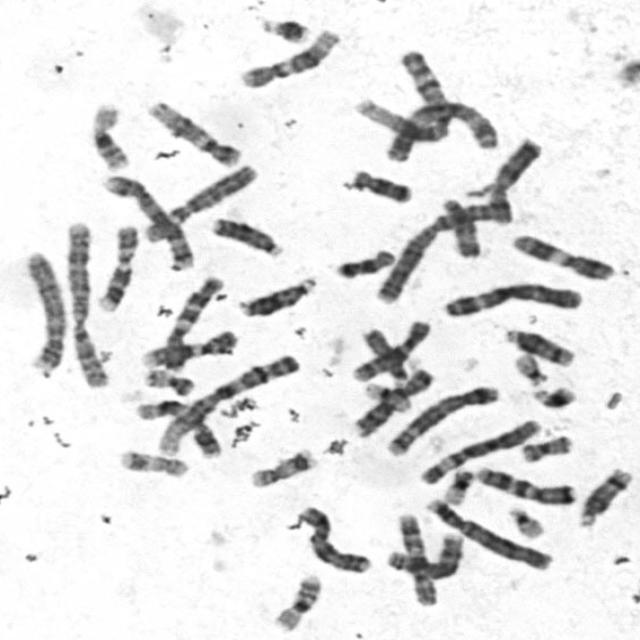A1: (150, 352, 303, 458), (352, 47, 452, 142)
A2: (372, 198, 512, 306), (60, 217, 110, 390)
A3: (378, 98, 501, 164), (437, 278, 583, 320)
B4: (422, 495, 553, 570), (20, 248, 69, 372)
B5: (98, 172, 196, 272), (383, 382, 501, 457)
C10: (349, 318, 433, 382), (395, 512, 438, 606)
C11: (507, 230, 616, 282), (136, 398, 224, 461)
C12: (142, 98, 244, 169), (235, 25, 342, 90)
C6: (138, 161, 260, 244), (414, 417, 542, 487)
C7: (160, 276, 226, 373), (473, 463, 578, 506)
C8: (349, 364, 439, 441), (385, 530, 465, 582)
C9: (136, 327, 242, 370), (95, 225, 140, 316)
D13: (236, 272, 319, 318), (208, 214, 283, 259)
D14: (576, 466, 632, 528), (501, 325, 576, 368)
D15: (360, 325, 412, 385), (437, 194, 483, 259)
E16: (85, 99, 133, 172), (269, 570, 325, 632)
E17: (246, 446, 318, 490), (116, 448, 191, 479)
E18: (346, 167, 414, 204), (331, 246, 396, 280)
F19: (360, 380, 412, 412), (439, 466, 476, 506)
F20: (517, 432, 576, 464), (140, 366, 196, 397)
G21: (255, 13, 312, 46), (529, 382, 579, 411)
G22: (504, 502, 546, 540), (510, 351, 550, 386)
X: (296, 504, 372, 574), (488, 138, 543, 228)
